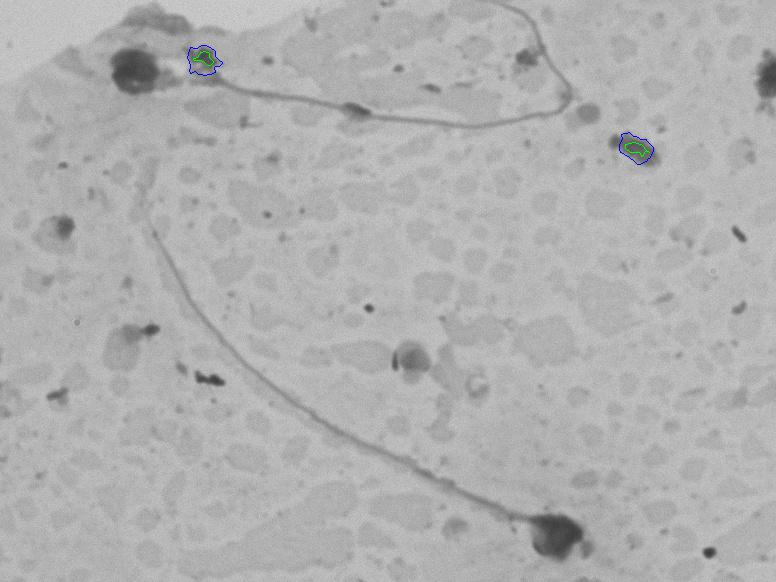Abnormal: (99, 210, 633, 566), (93, 11, 603, 160)
